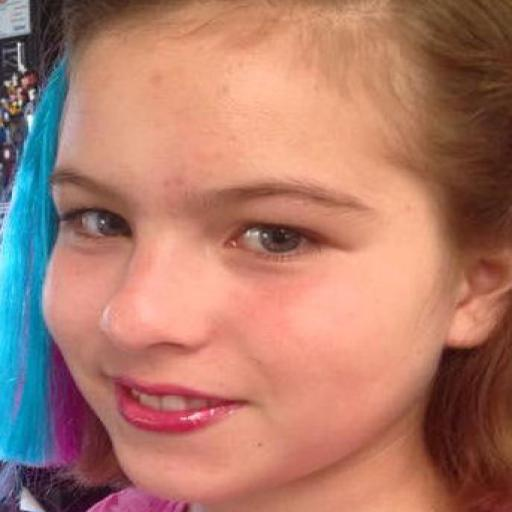Autism: (28, 5, 512, 512)
